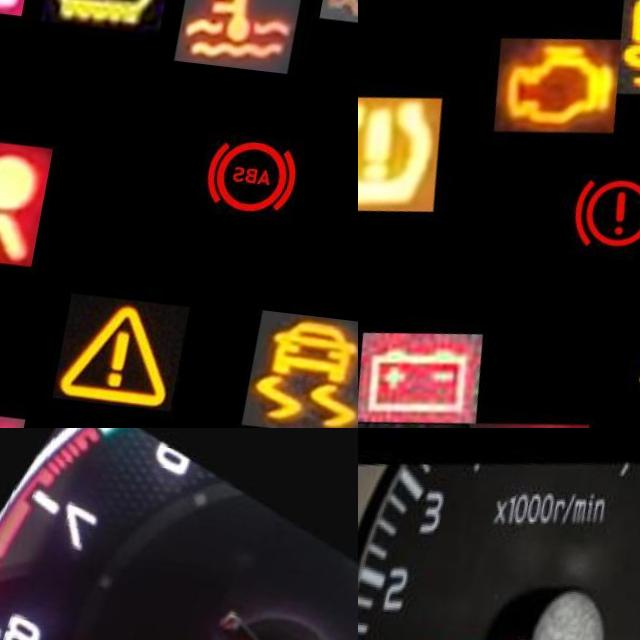Central Warning lamp: (71, 285, 204, 402)
Engine cooling system: (179, 0, 309, 61)
